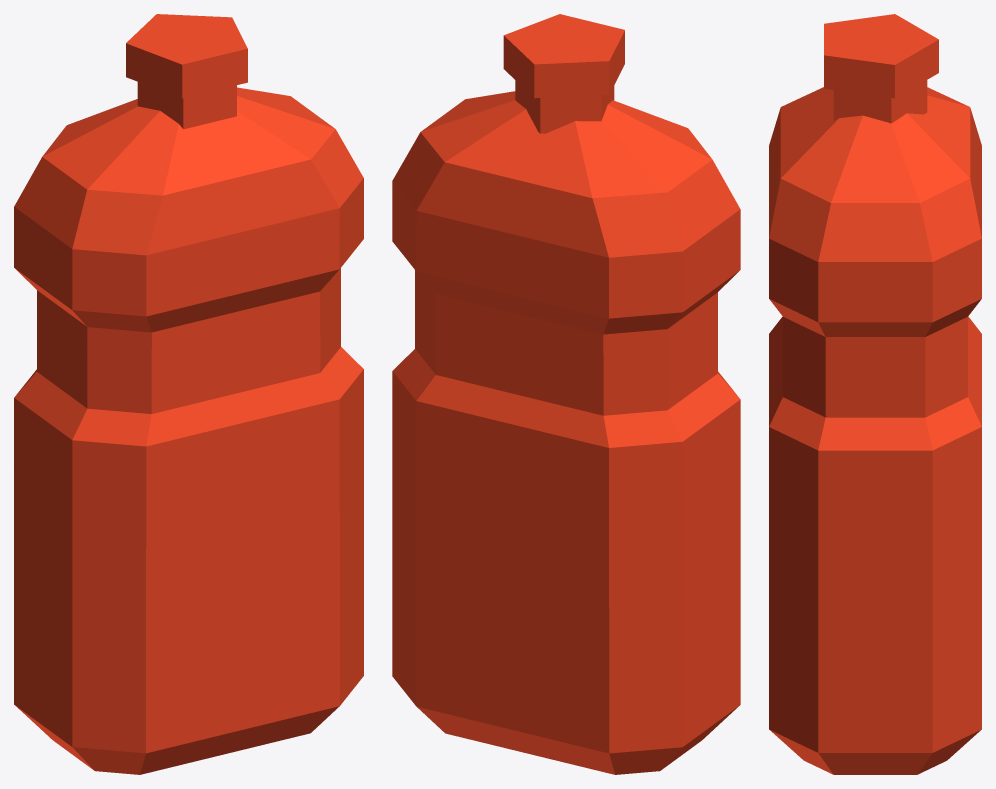
File: SM_Break_Fluid_City.fbx
3 views of the same model, side by side, from view 1: azimuth 30°, elevation 25°; view 2: azimuth 150°, elevation 25°; view 3: azimuth 270°, elevation 25° (orthographic).
Visible parts, largest first — view 1: SM_Break_Fluid_City; view 2: SM_Break_Fluid_City; view 3: SM_Break_Fluid_City.
Boxes of the visible parts, left/top/right/bottom form: SM_Break_Fluid_City: left=14, top=14, right=363, bottom=774; SM_Break_Fluid_City: left=392, top=14, right=740, bottom=774; SM_Break_Fluid_City: left=769, top=14, right=981, bottom=774.
Size of the model in its own units: 0.1263 by 0.2855 by 0.081.
